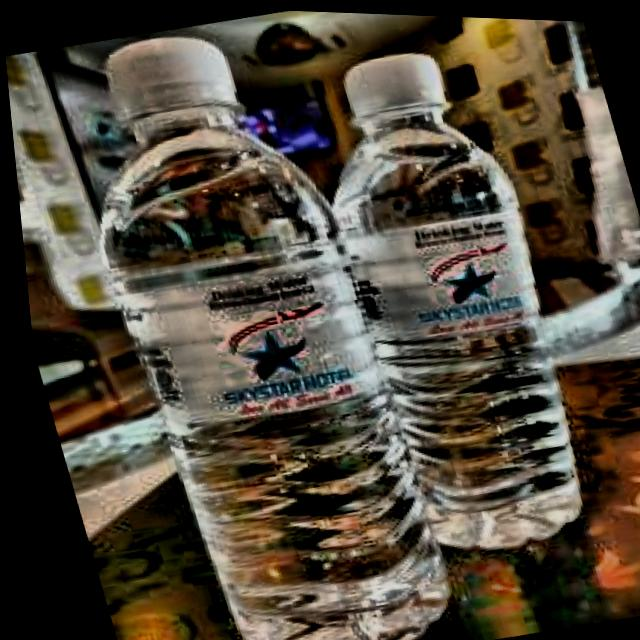Bottles: (24, 2, 468, 640), (244, 7, 640, 586)
